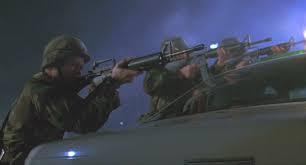rifle: (69, 40, 206, 98)
